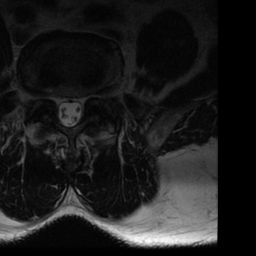CCS_normal: (65, 91, 75, 132)
LFS_severe_stenosis: (85, 87, 94, 108)
LLS_normal: (75, 91, 85, 120)
RFS_severe_stenosis: (43, 86, 54, 108)
RLS_normal: (54, 89, 65, 118)
